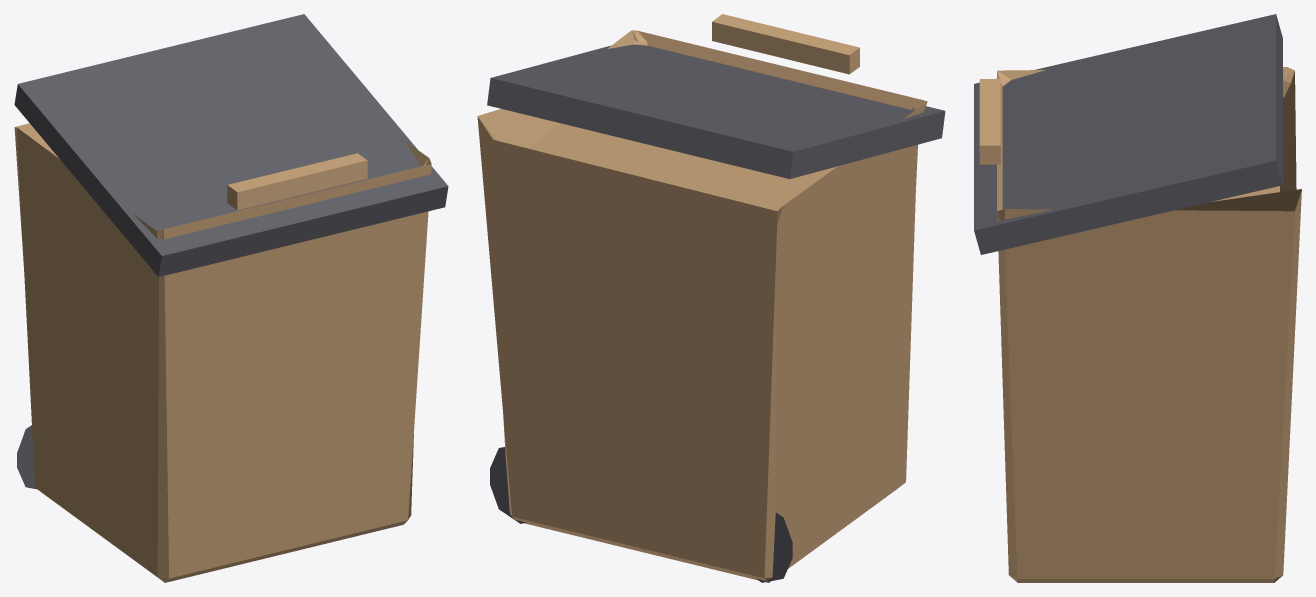
File: bin_paper.glb
3 views of the same model, side by side, from view 1: azimuth 30°, elevation 25°; view 2: azimuth 150°, elevation 25°; view 3: azimuth 270°, elevation 25° (orthographic). The views are drawn at different scales.
Parts seen in each view (by area): view 1: bin_paper; view 2: bin_paper; view 3: bin_paper.
Boxes of the visible parts, left/top/right/bottom form: bin_paper: left=14, top=14, right=448, bottom=582; bin_paper: left=477, top=14, right=945, bottom=582; bin_paper: left=974, top=14, right=1301, bottom=582.
Bounding box in the file's own units: 0.9902 × 1.37 × 0.9361.
